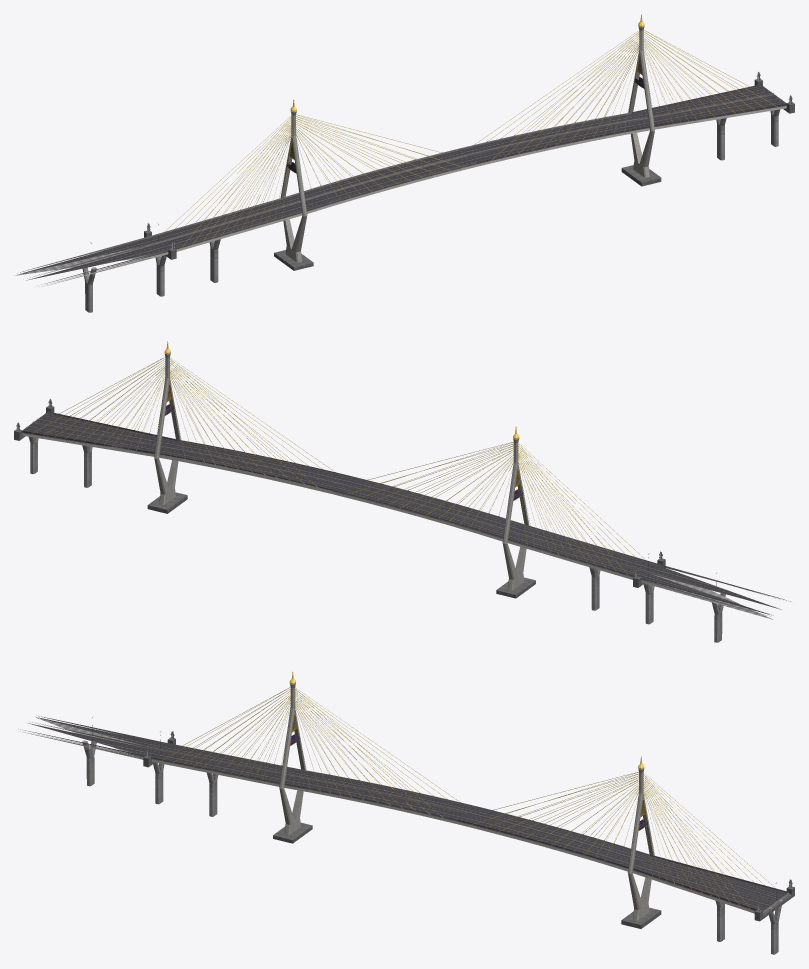
Rendered from bhumibol.glb.
The picture shows the model from 3 angles, top to bottom: view 1: azimuth 30°, elevation 25°; view 2: azimuth 150°, elevation 25°; view 3: azimuth 330°, elevation 25°; orthographic projection.
Parts seen in each view (by area): view 1: sdfgsdfg#1, SKP Vertex Colors, 3883743#1, DSC_0043000, DSC_0037000, dfhdfb#1, dfhdfb#3; view 2: sdfgsdfg#1, SKP Vertex Colors, 3883743#1, DSC_0043000, DSC_0037000, dfhdfb#1, dfhdfb#3; view 3: sdfgsdfg#1, SKP Vertex Colors, 3883743#1, DSC_0043000, DSC_0037000, dfhdfb#1, dfhdfb#3.
Part boxes in pixels (<box>): sdfgsdfg#1: <box>19,86,785,284</box>; SKP Vertex Colors: <box>164,14,775,246</box>; 3883743#1: <box>31,25,786,286</box>; DSC_0043000: <box>20,78,794,285</box>; DSC_0037000: <box>14,91,782,312</box>; dfhdfb#1: <box>477,84,786,163</box>; dfhdfb#3: <box>458,112,639,156</box>; sdfgsdfg#1: <box>23,413,781,615</box>; SKP Vertex Colors: <box>33,341,645,574</box>; 3883743#1: <box>22,352,778,615</box>; DSC_0043000: <box>14,405,786,614</box>; DSC_0037000: <box>26,418,772,642</box>; dfhdfb#1: <box>22,411,350,477</box>; dfhdfb#3: <box>159,447,340,491</box>; sdfgsdfg#1: <box>27,717,787,910</box>; SKP Vertex Colors: <box>162,671,774,906</box>; 3883743#1: <box>22,683,789,920</box>; DSC_0043000: <box>24,716,794,928</box>; DSC_0037000: <box>36,717,782,954</box>; dfhdfb#1: <box>457,819,788,910</box>; dfhdfb#3: <box>467,806,649,861</box>.
Size of the model in its own units: 730 by 152 by 58.74.
Materials: 13 (12 with a texture image).
